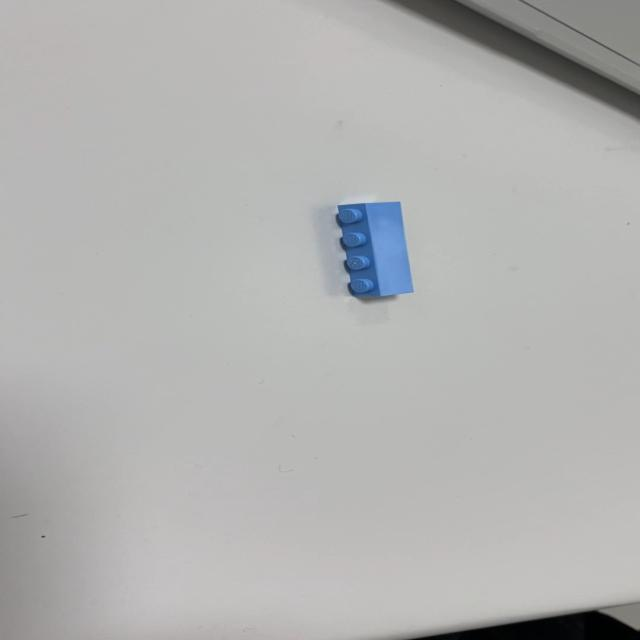C4x1x1: (334, 200, 416, 298)
